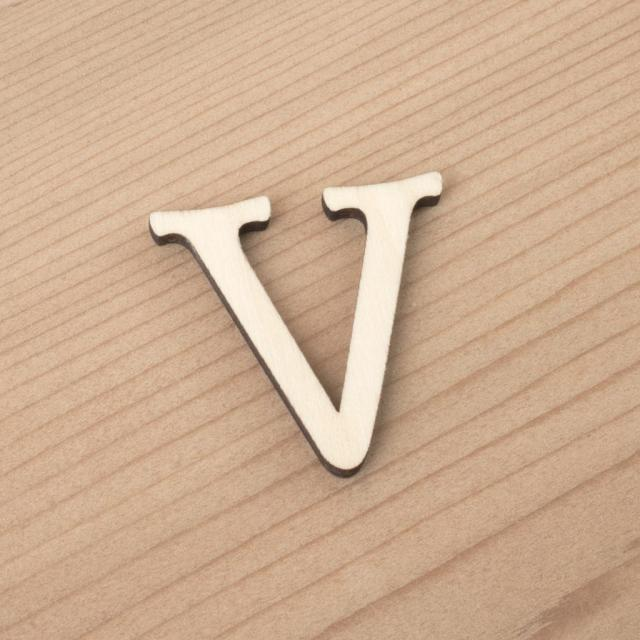V: (99, 134, 475, 524)
